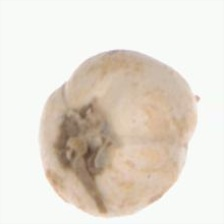L4: (37, 48, 198, 218)
